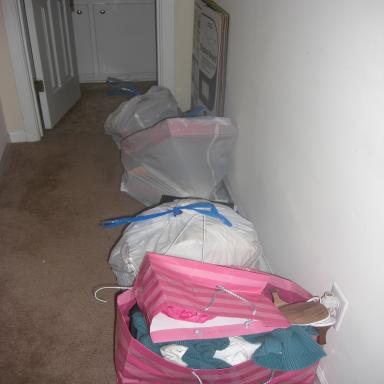plasticbag: (105, 198, 263, 288), (116, 113, 238, 207), (102, 84, 182, 149)
